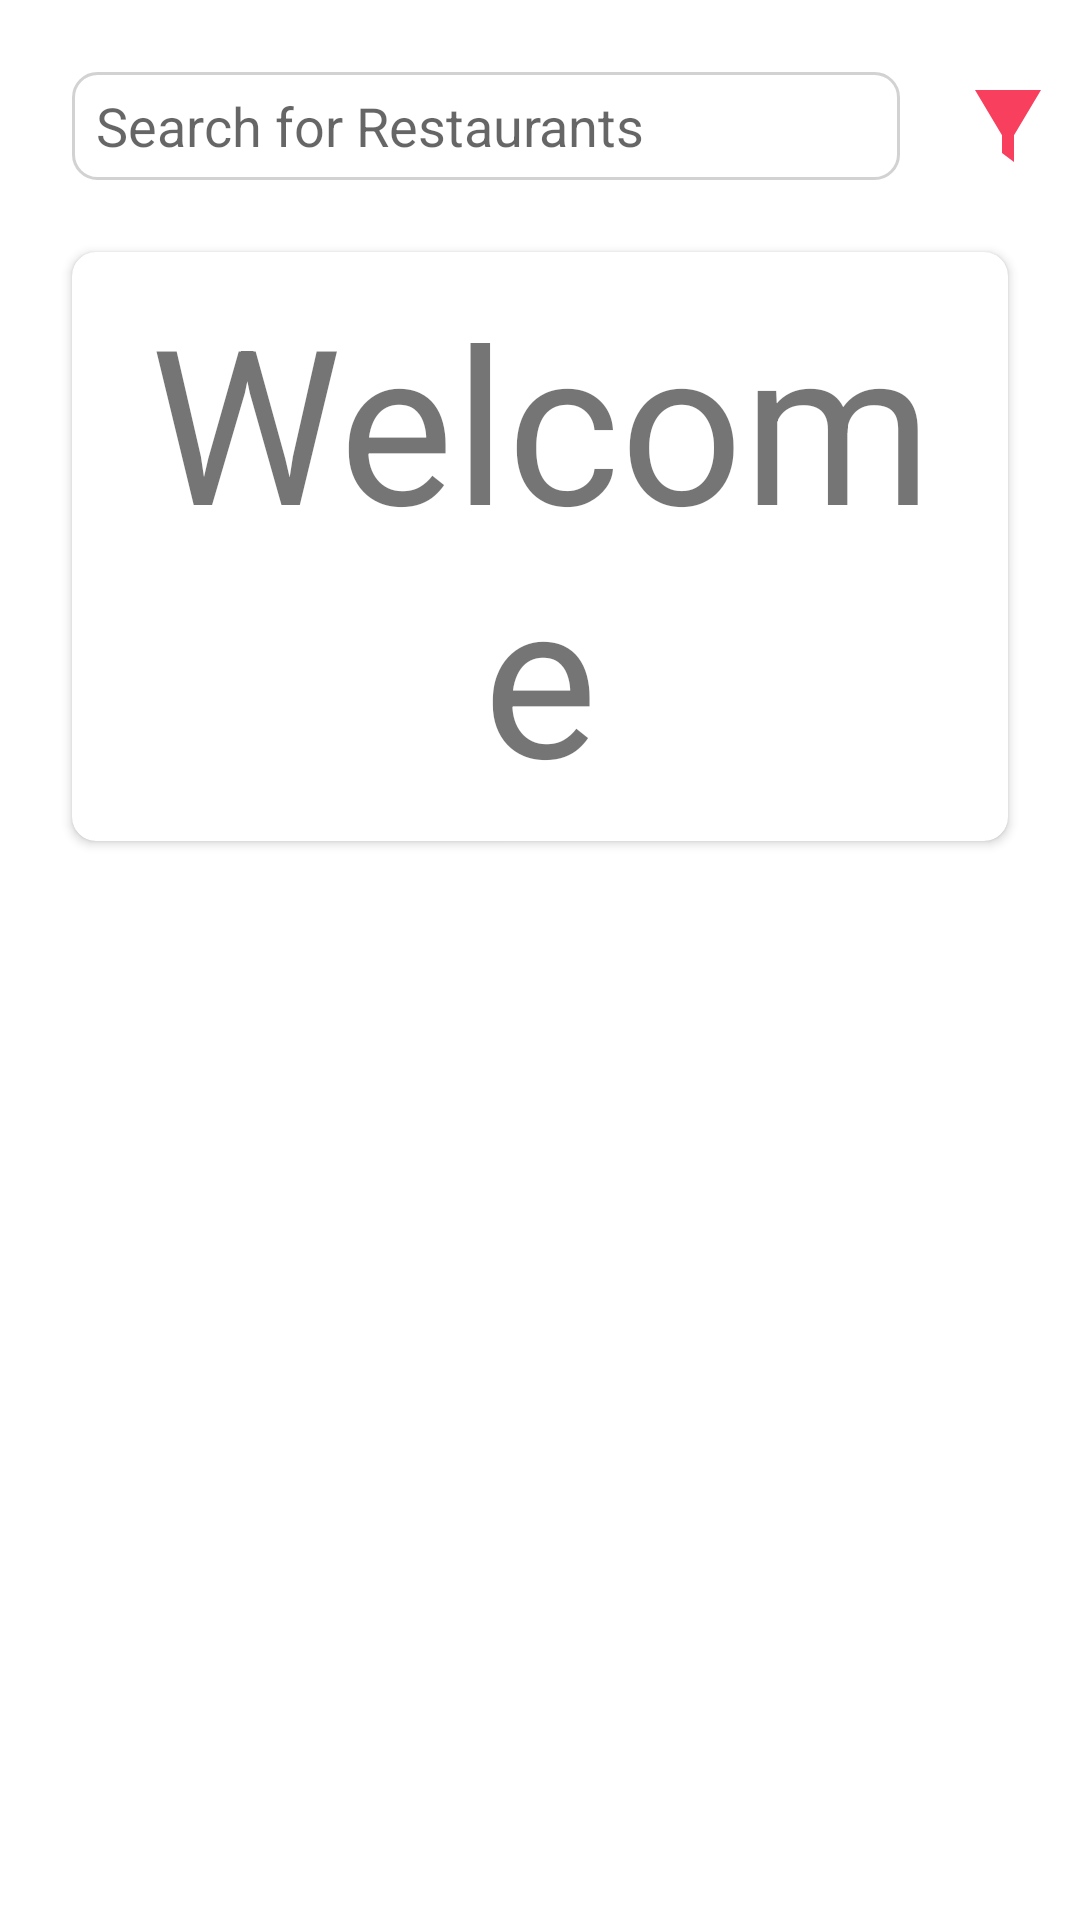

Named icons in this screenshot (1080w x 1920h) and their bounding boxes, rect(x1, y1, x2, y2):
filter: rect(975, 90, 1041, 162)
